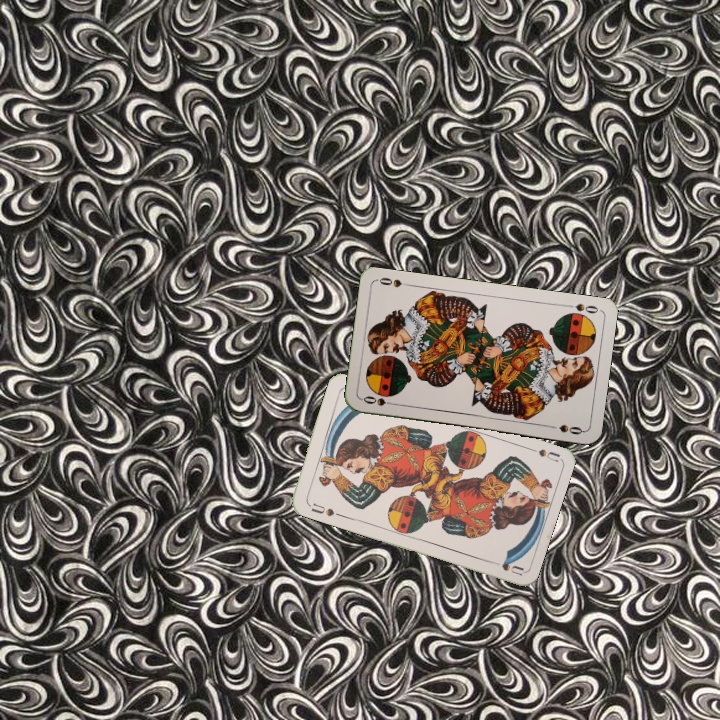SO: (358, 392, 399, 409), (561, 299, 601, 316)
SU: (521, 442, 561, 464), (307, 499, 337, 519)
